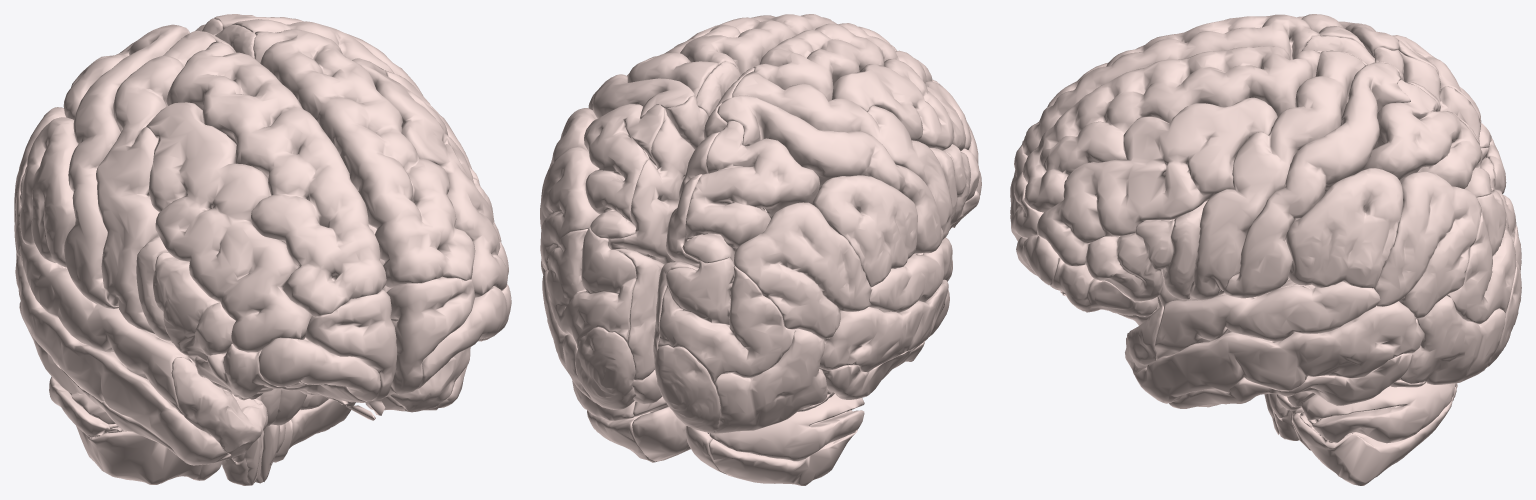
Rendered from nervous_central.head.glb.
The picture shows the model from 3 angles, left to right: view 1: azimuth 30°, elevation 25°; view 2: azimuth 150°, elevation 25°; view 3: azimuth 270°, elevation 25°; orthographic projection. The views are drawn at different scales.
Visible parts, largest first — view 1: right_superior_frontal_gyrus, left_superior_frontal_gyrus, right_middle_frontal_gyrus, right_primary_motor_cortex, right_postcentral_gyrus, right_middle_temporal_gyrus, right_superior_temporal_gyrus, left_middle_frontal_gyrus, right_supramarginal_gyrus, left_frontal_pole, right_lateral_hemisphere_of_cerebellum, right_triangular_part_of_inferior_frontal_gyrus (+19 smaller); view 2: right_angular_gyrus, right_superior_occipital_gyrus, right_superior_parietal_lobule, right_postcentral_gyrus, right_lateral_hemisphere_of_cerebellum, left_superior_occipital_gyrus, right_supramarginal_gyrus, right_primary_motor_cortex, left_superior_parietal_lobule, right_middle_frontal_gyrus, right_inferior_occipital_gyrus, right_superior_frontal_gyrus (+22 smaller); view 3: left_middle_frontal_gyrus, left_superior_frontal_gyrus, left_middle_temporal_gyrus, left_primary_motor_cortex, left_postcentral_gyrus, left_lateral_hemisphere_of_cerebellum, left_supramarginal_gyrus, left_angular_gyrus, left_superior_temporal_gyrus, left_superior_parietal_lobule, right_superior_frontal_gyrus, left_inferior_occipital_gyrus (+15 smaller).
Boxes of the visible parts, left/top/right/bottom form: right_superior_frontal_gyrus: left=166, top=42, right=386, bottom=316; left_superior_frontal_gyrus: left=253, top=29, right=475, bottom=288; right_middle_frontal_gyrus: left=146, top=102, right=311, bottom=352; right_primary_motor_cortex: left=96, top=30, right=215, bottom=333; right_postcentral_gyrus: left=64, top=24, right=188, bottom=308; right_middle_temporal_gyrus: left=15, top=255, right=232, bottom=465; right_superior_temporal_gyrus: left=19, top=242, right=191, bottom=415; left_middle_frontal_gyrus: left=352, top=58, right=507, bottom=297; right_supramarginal_gyrus: left=19, top=117, right=78, bottom=267; left_frontal_pole: left=386, top=276, right=474, bottom=394; right_lateral_hemisphere_of_cerebellum: left=49, top=376, right=202, bottom=484; right_triangular_part_of_inferior_frontal_gyrus: left=153, top=252, right=235, bottom=361; right_angular_gyrus: left=733, top=202, right=871, bottom=339; right_superior_occipital_gyrus: left=658, top=257, right=795, bottom=383; right_superior_parietal_lobule: left=682, top=121, right=819, bottom=263; right_postcentral_gyrus: left=717, top=95, right=943, bottom=253; right_lateral_hemisphere_of_cerebellum: left=709, top=393, right=864, bottom=485; left_superior_occipital_gyrus: left=546, top=227, right=636, bottom=348; right_supramarginal_gyrus: left=812, top=175, right=917, bottom=287; right_primary_motor_cortex: left=732, top=71, right=952, bottom=239; left_superior_parietal_lobule: left=584, top=104, right=664, bottom=239; right_middle_frontal_gyrus: left=832, top=58, right=978, bottom=163; right_inferior_occipital_gyrus: left=714, top=328, right=831, bottom=433; right_superior_frontal_gyrus: left=753, top=23, right=939, bottom=101; left_middle_frontal_gyrus: left=1037, top=97, right=1277, bottom=265; left_superior_frontal_gyrus: left=1022, top=46, right=1320, bottom=212; left_middle_temporal_gyrus: left=1135, top=301, right=1423, bottom=403; left_primary_motor_cortex: left=1190, top=50, right=1365, bottom=300; left_postcentral_gyrus: left=1224, top=62, right=1410, bottom=298; left_lateral_hemisphere_of_cerebellum: left=1276, top=382, right=1456, bottom=485; left_supramarginal_gyrus: left=1285, top=168, right=1403, bottom=288; left_angular_gyrus: left=1374, top=171, right=1481, bottom=319; left_superior_temporal_gyrus: left=1154, top=281, right=1380, bottom=359; left_superior_parietal_lobule: left=1362, top=79, right=1491, bottom=197; right_superior_frontal_gyrus: left=1022, top=14, right=1320, bottom=155; left_inferior_occipital_gyrus: left=1398, top=295, right=1505, bottom=384.
Size of the model in its own units: 0.1385 by 0.1491 by 0.1719.
